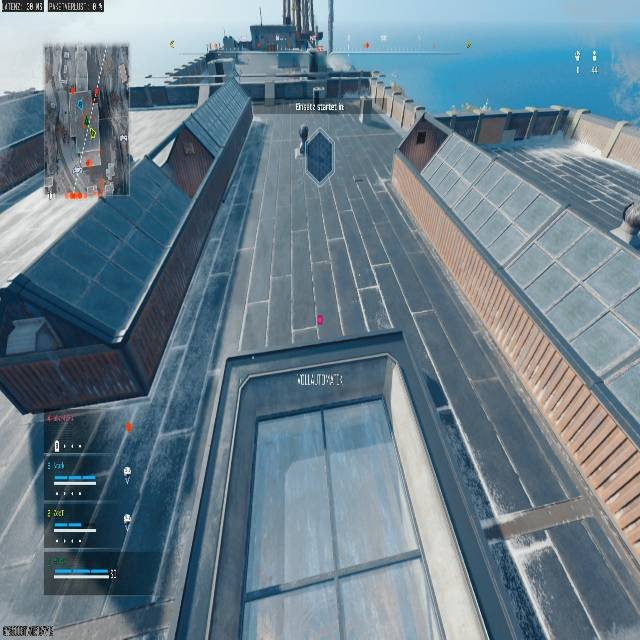head: (32, 9, 640, 640)
